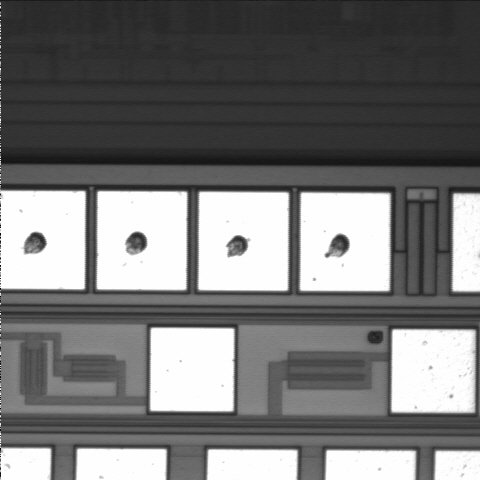pad: (198, 192, 289, 291), (97, 191, 187, 290), (300, 193, 390, 291), (150, 328, 234, 411), (392, 330, 475, 412)
